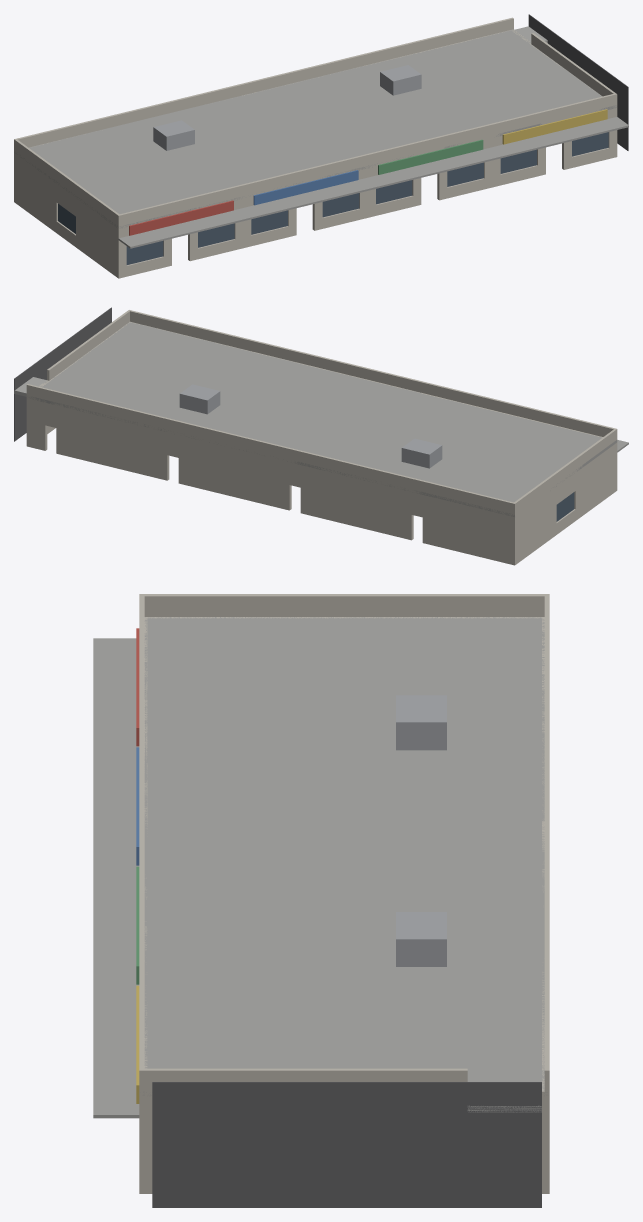
File: strip-mall.lod1.glb
The picture shows the model from 3 angles, top to bottom: view 1: azimuth 30°, elevation 25°; view 2: azimuth 150°, elevation 25°; view 3: azimuth 270°, elevation 25°; orthographic projection. The views are drawn at different scales.
Visible parts, largest first — view 1: strip-mall; view 2: strip-mall; view 3: strip-mall.
Part boxes in pixels (x1,y1,x2,y2): strip-mall: (14, 14, 628, 278); strip-mall: (14, 307, 628, 565); strip-mall: (93, 594, 549, 1207).
Bounding box in the file's own units: 45.3 × 5.6 × 17.8.
